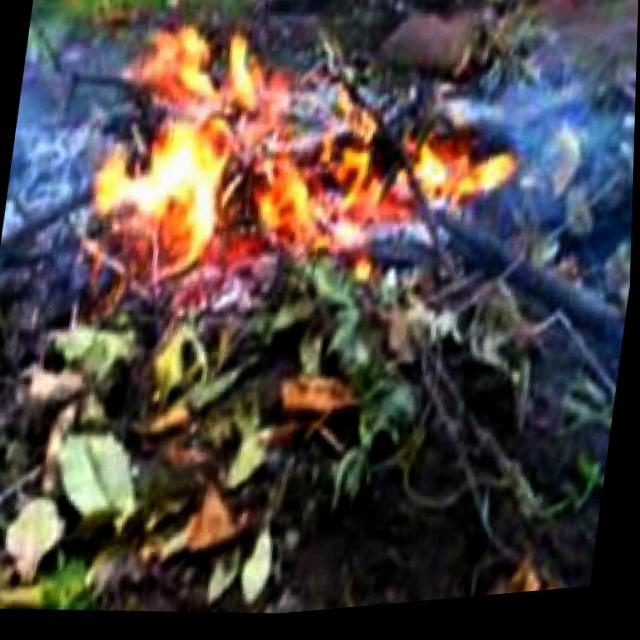helmet: (56, 1, 318, 300), (222, 85, 530, 289)
